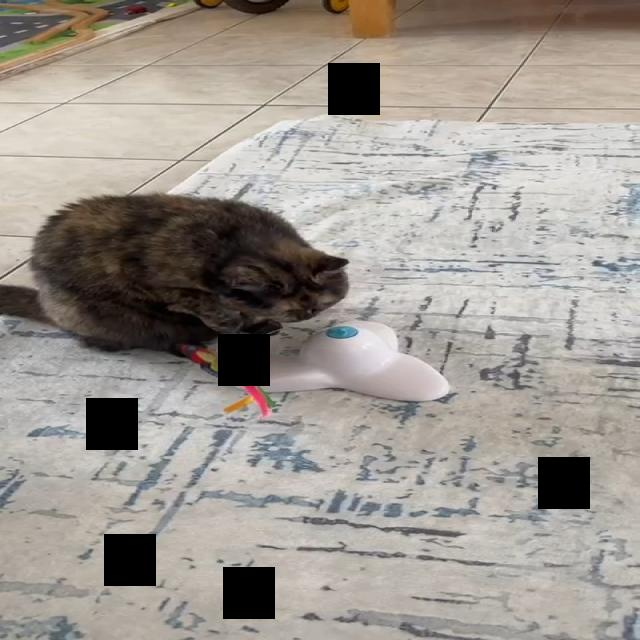authorized: (0, 191, 349, 355)
